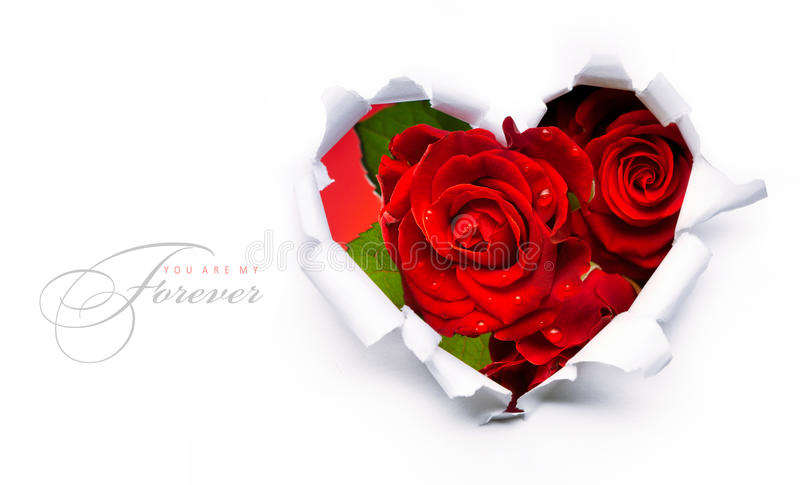RedRose: (373, 113, 599, 337), (570, 102, 703, 266)
